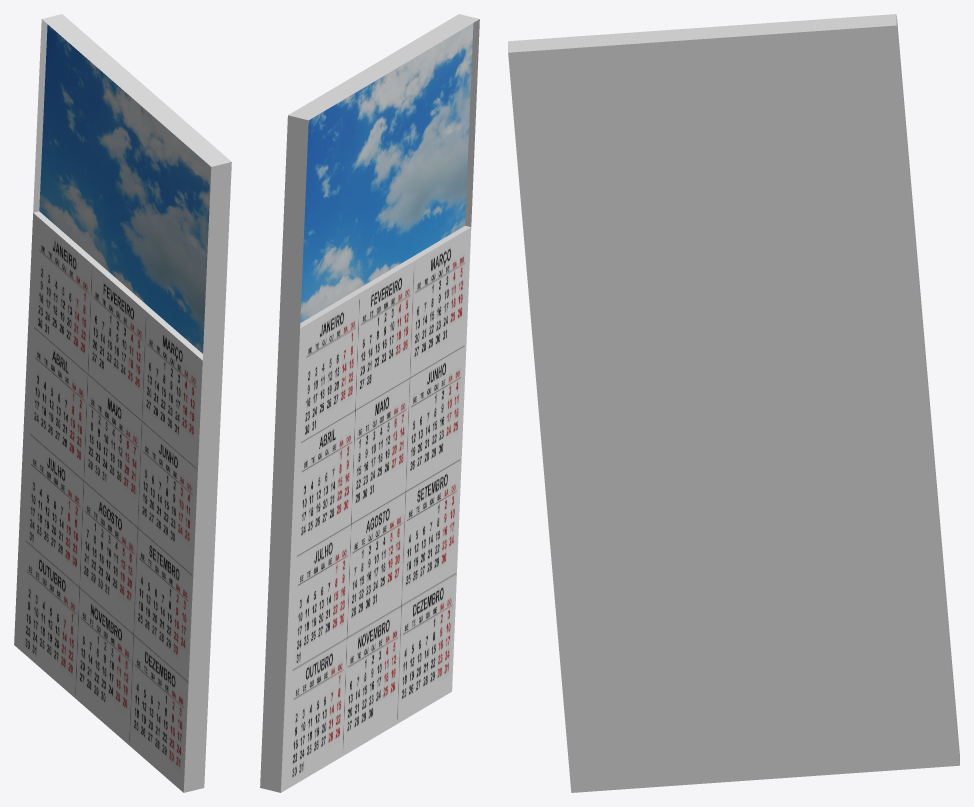
The model's file is calendario.glb.
3 views of the same model, side by side, from view 1: azimuth 30°, elevation 25°; view 2: azimuth 150°, elevation 25°; view 3: azimuth 270°, elevation 25° (orthographic). The views are drawn at different scales.
Parts seen in each view (by area): view 1: calendário; view 2: calendário; view 3: calendário.
Part boxes in pixels (x1,y1,x2,y2): calendário: [14, 14, 231, 792]; calendário: [260, 14, 479, 792]; calendário: [508, 14, 959, 792].
Bounding box in the file's own units: 0.1657 × 5.15 × 2.75.
Materials: 3 (2 with a texture image).
